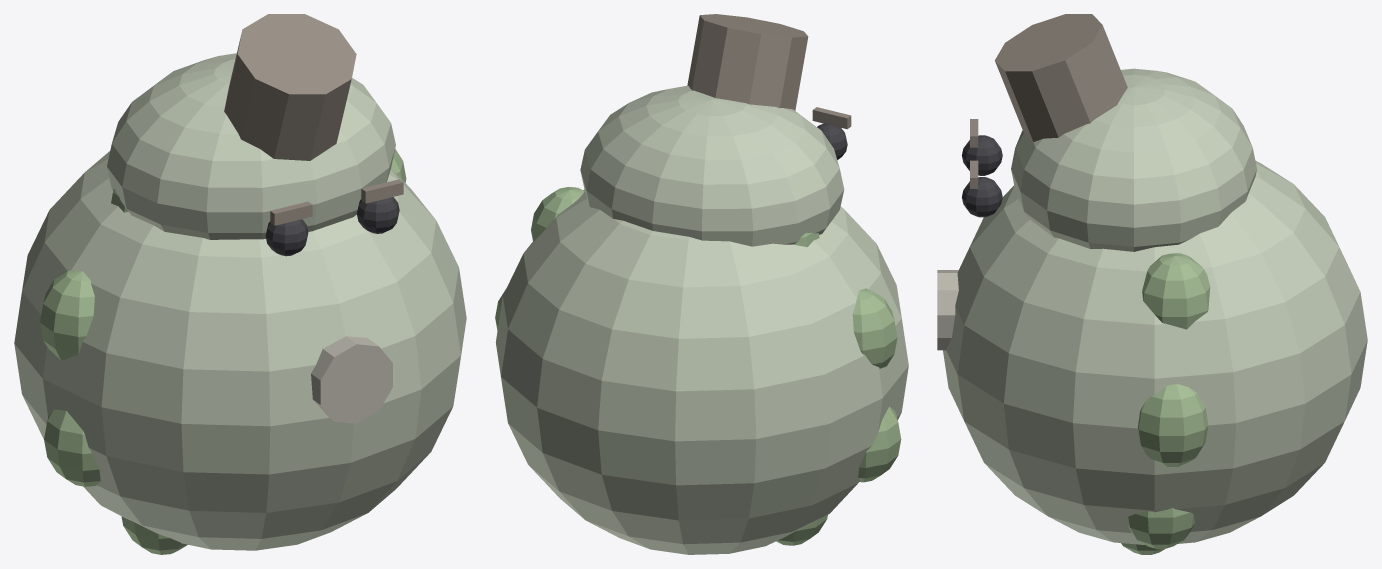
Rendered from mob-clog.glb.
3 renders of one model, left to right at view 1: azimuth 30°, elevation 25°; view 2: azimuth 150°, elevation 25°; view 3: azimuth 270°, elevation 25°, orthographic. The views are drawn at different scales.
Visible parts, largest first — view 1: mob-clog; view 2: mob-clog; view 3: mob-clog.
Boxes of the visible parts, x1=… form: mob-clog: x1=14, y1=14, x2=466, y2=554; mob-clog: x1=495, y1=14, x2=908, y2=554; mob-clog: x1=937, y1=14, x2=1367, y2=554.
Size of the model in its own units: 1.08 by 1.38 by 1.05.
